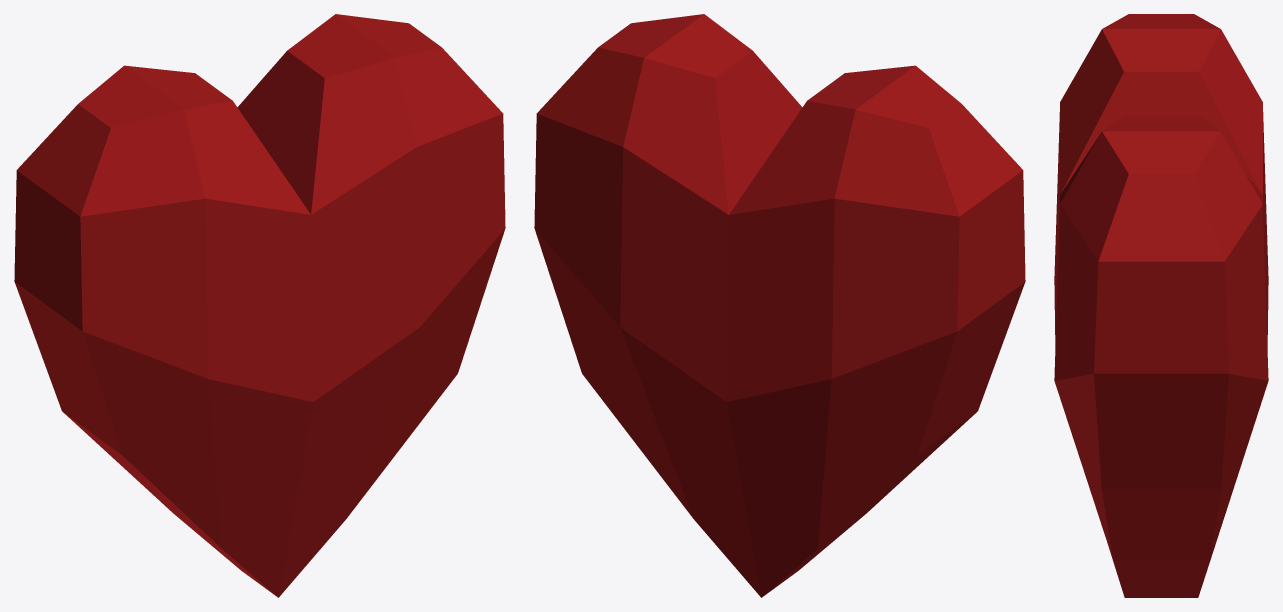
File: heart.fbx
3 renders of one model, left to right at view 1: azimuth 30°, elevation 25°; view 2: azimuth 150°, elevation 25°; view 3: azimuth 270°, elevation 25°, orthographic.
Visible parts, largest first — view 1: Heart; view 2: Heart; view 3: Heart.
Part boxes in pixels (<box>): Heart: <box>14,14,505,597</box>; Heart: <box>534,14,1025,597</box>; Heart: <box>1054,14,1268,597</box>.
Bounding box in the file's own units: 95.84 × 113 × 42.43.
